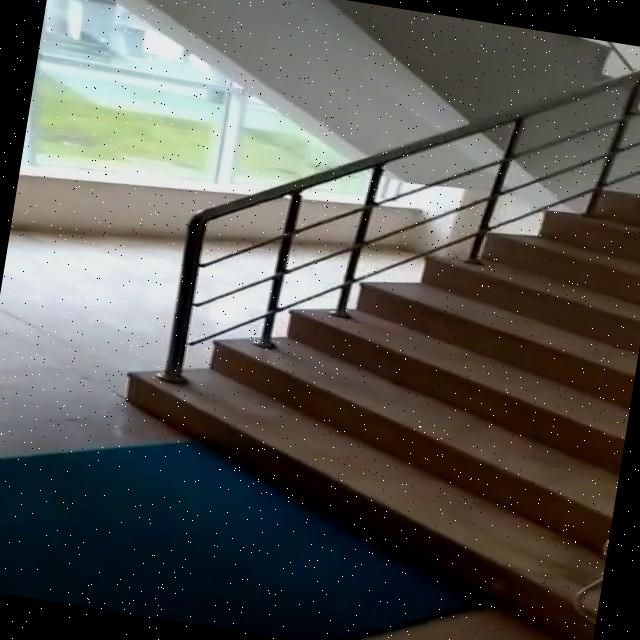stairs: (95, 89, 640, 640)
